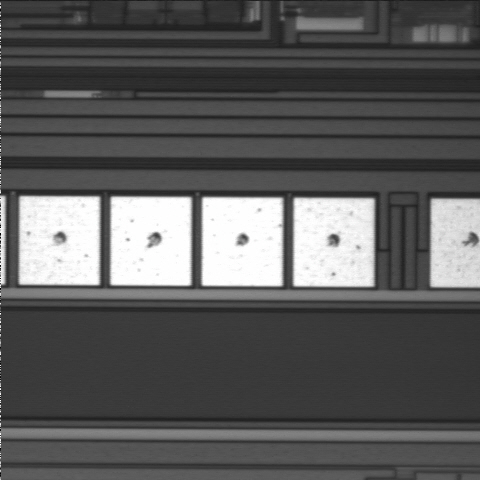pad: (110, 197, 192, 286), (19, 196, 100, 285), (202, 197, 283, 286), (293, 198, 374, 287)
